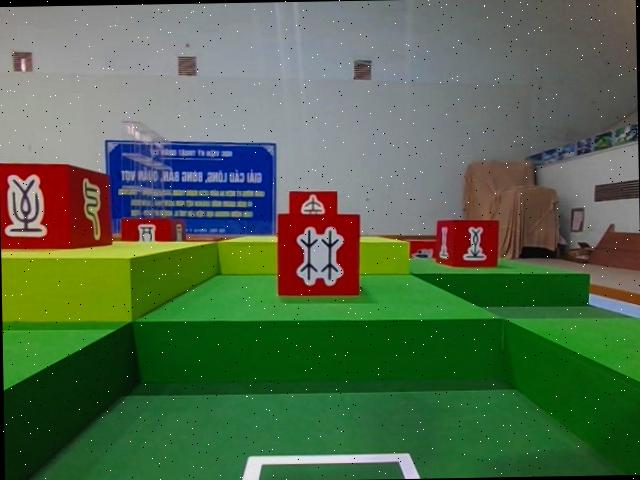R2 Fake: (0, 157, 117, 250)
R2 Real: (274, 211, 367, 302), (435, 217, 504, 268)
